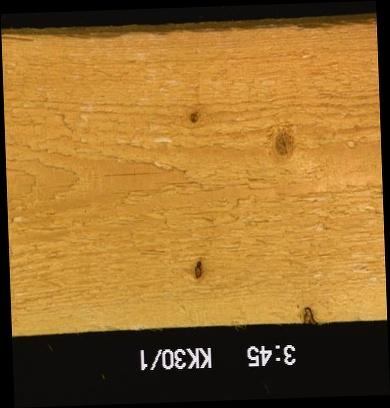dry_knot: (192, 259, 203, 280)
edge_knot: (299, 306, 316, 324)
small_knot: (188, 110, 201, 125)
sound_knot: (269, 123, 298, 161)
wave: (0, 21, 376, 47)
